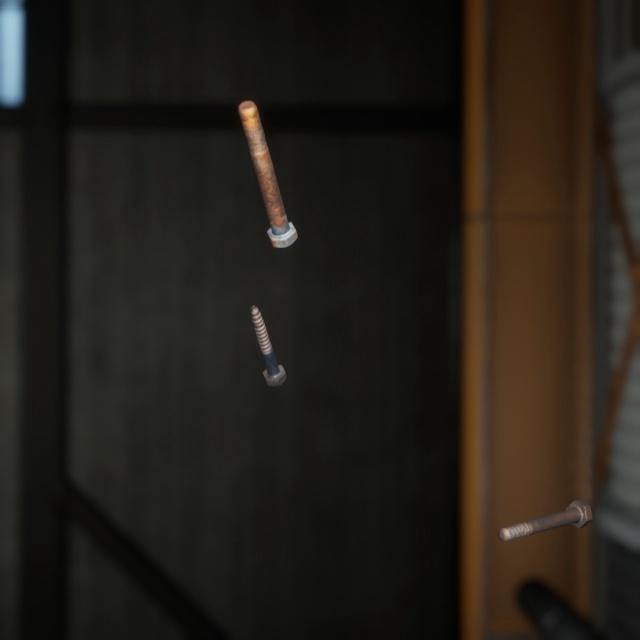bolt: (234, 81, 302, 238), (493, 473, 596, 523), (246, 281, 291, 372)
